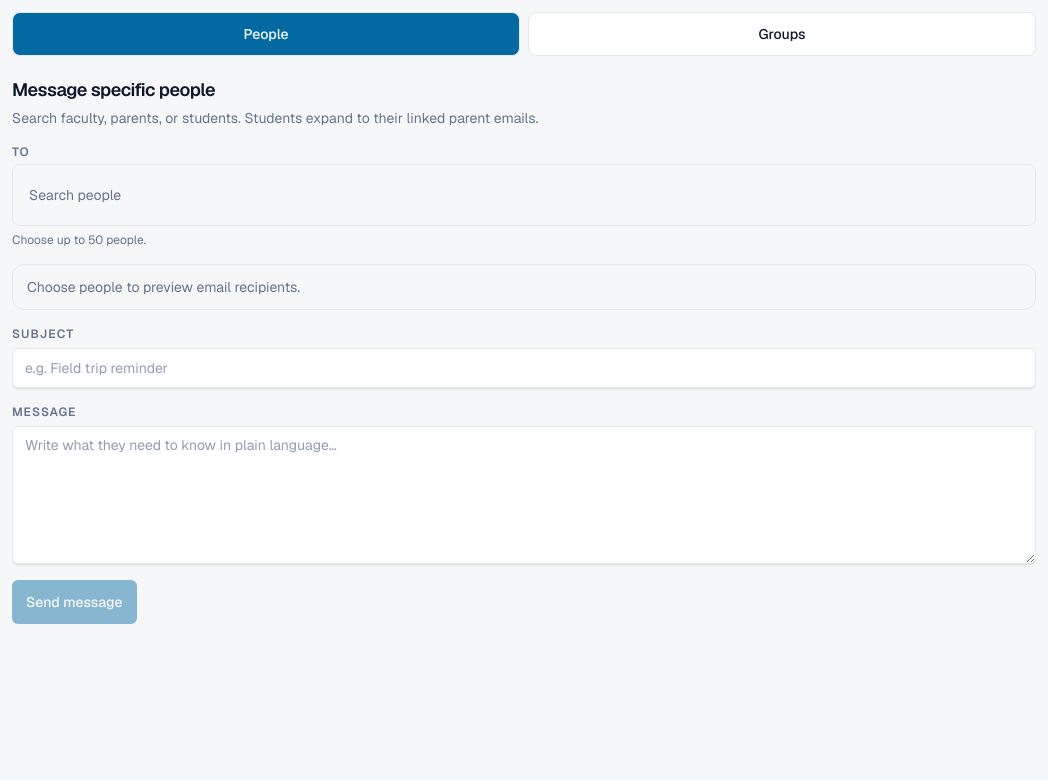
Test: CommunicationsComposer › marks a Groups draft clean only after a complete successful send
Click the tab "Groups": (782,34) 528,12 -> 1036,56
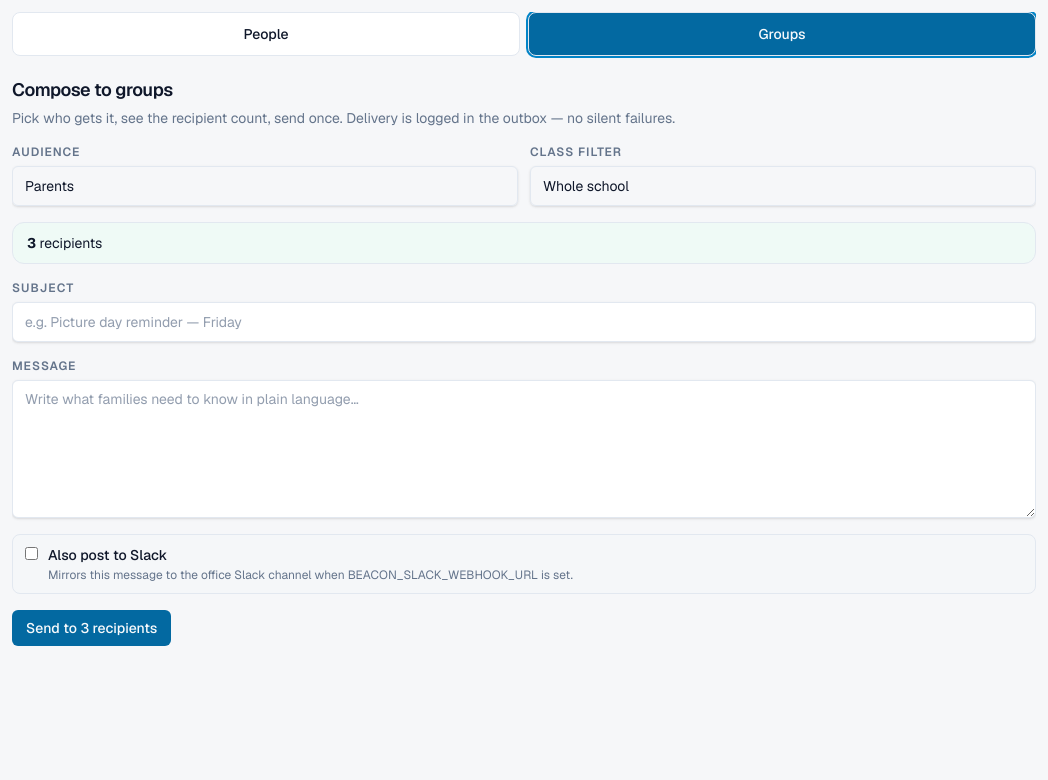
Expected: the button "Send to 3 recipients" is shown, 12,610 -> 171,646
In the field labelled "Subject": (524,322) 12,302 -> 1036,342, type "School update"
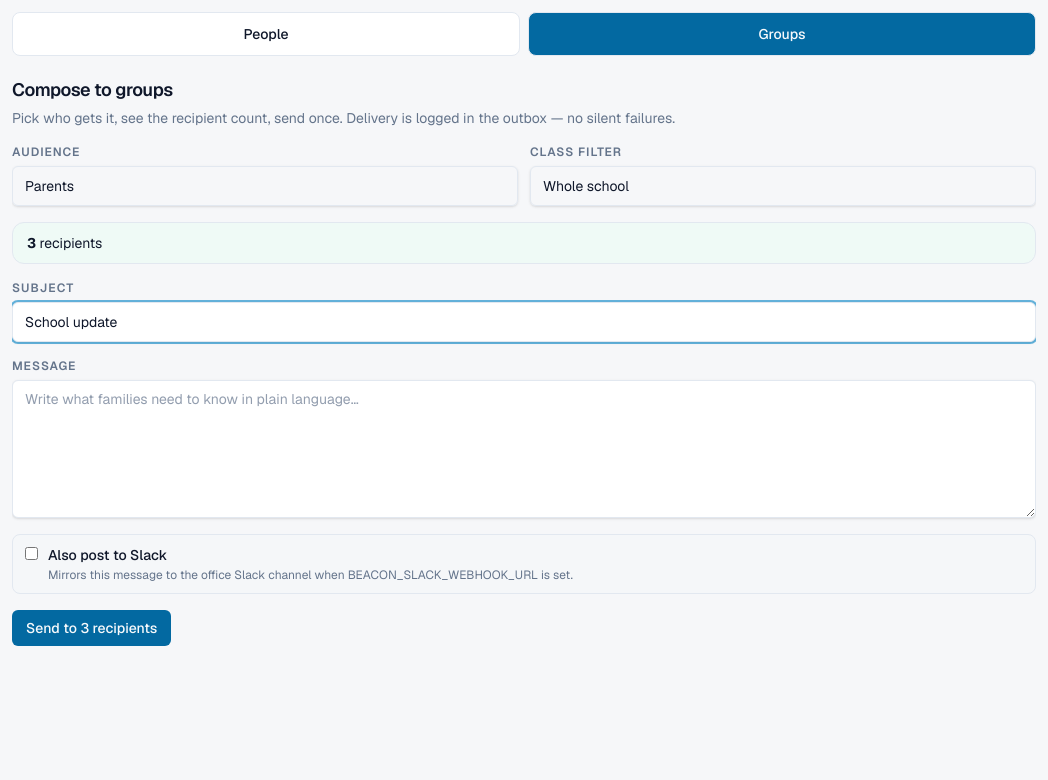
In the text box labelled "Message": (524,449) 12,380 -> 1036,518, type "Details for everyone."
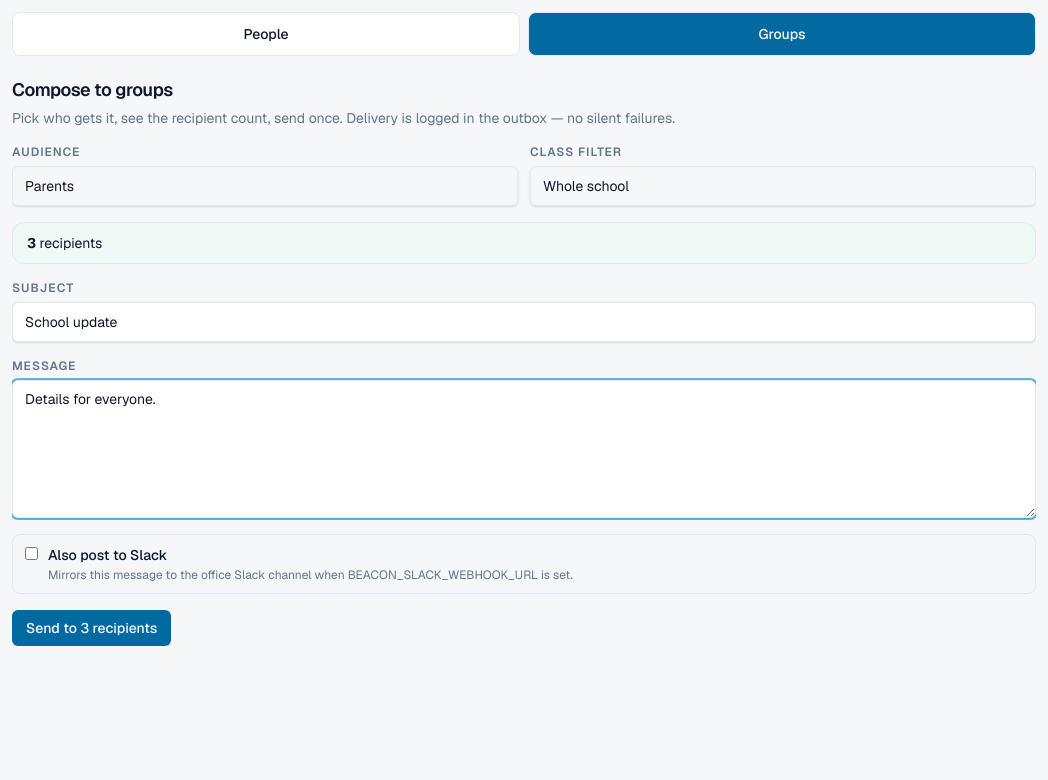
Click the button "Send to 3 recipients": (92,628) 12,610 -> 171,646
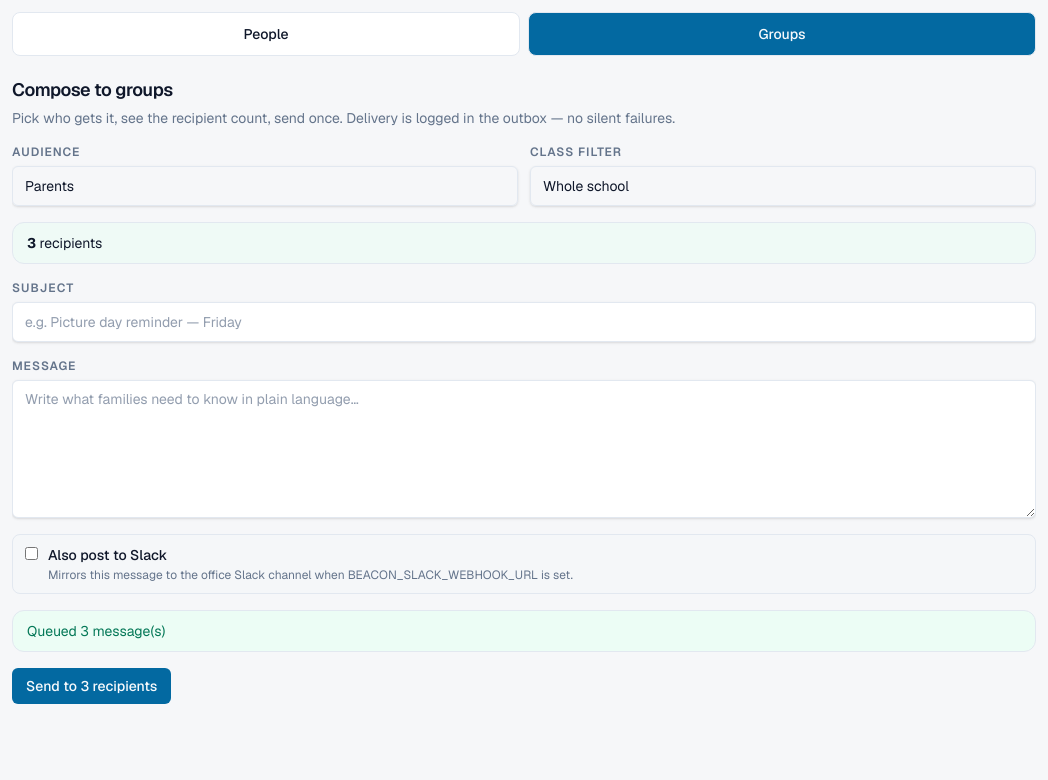
Click the tab "People": (266,34) 12,12 -> 520,56
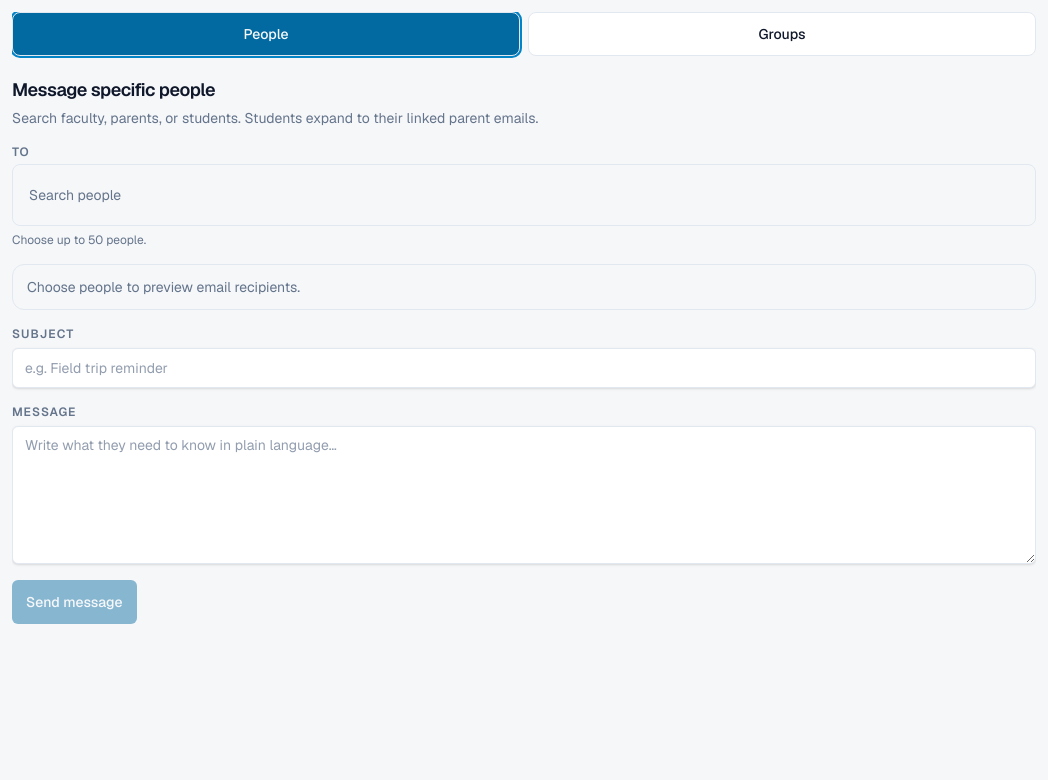
Expected: the heading "Message specific people" is shown, 12,78 -> 215,101
